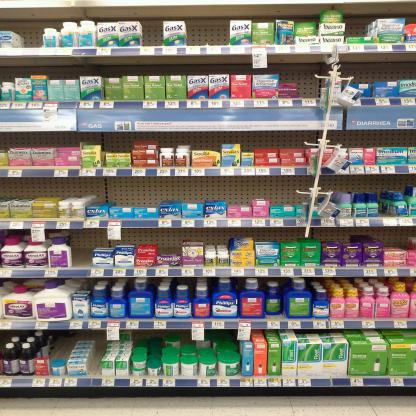Void: (166, 179, 249, 198), (110, 178, 154, 206), (332, 175, 402, 191), (4, 132, 94, 144), (344, 132, 416, 146), (4, 182, 100, 192), (355, 63, 411, 78), (246, 132, 303, 146), (258, 178, 294, 200), (188, 24, 226, 43), (300, 63, 318, 95), (74, 232, 90, 265), (157, 230, 179, 252), (142, 21, 161, 44), (23, 25, 41, 46), (108, 136, 128, 153), (125, 231, 148, 245), (384, 228, 402, 245), (54, 334, 66, 353), (282, 63, 296, 79), (94, 336, 100, 372), (164, 134, 185, 144), (198, 136, 214, 148)
